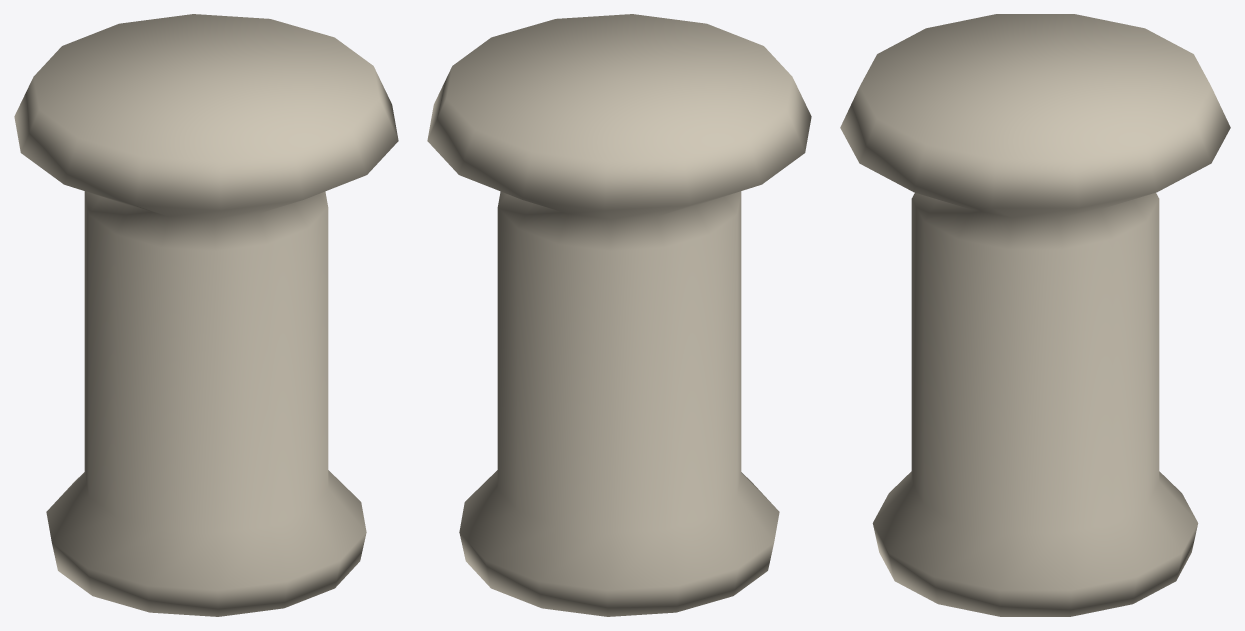
File: bollard.glb
3 renders of one model, left to right at view 1: azimuth 30°, elevation 25°; view 2: azimuth 150°, elevation 25°; view 3: azimuth 270°, elevation 25°, orthographic.
Visible parts, largest first — view 1: bollard; view 2: bollard; view 3: bollard.
Part boxes in pixels (x1,y1,x2,y2): bollard: (14,14,398,616); bollard: (427,14,811,616); bollard: (840,14,1230,616).
Size of the model in its own units: 0.585 by 0.8 by 0.6.
